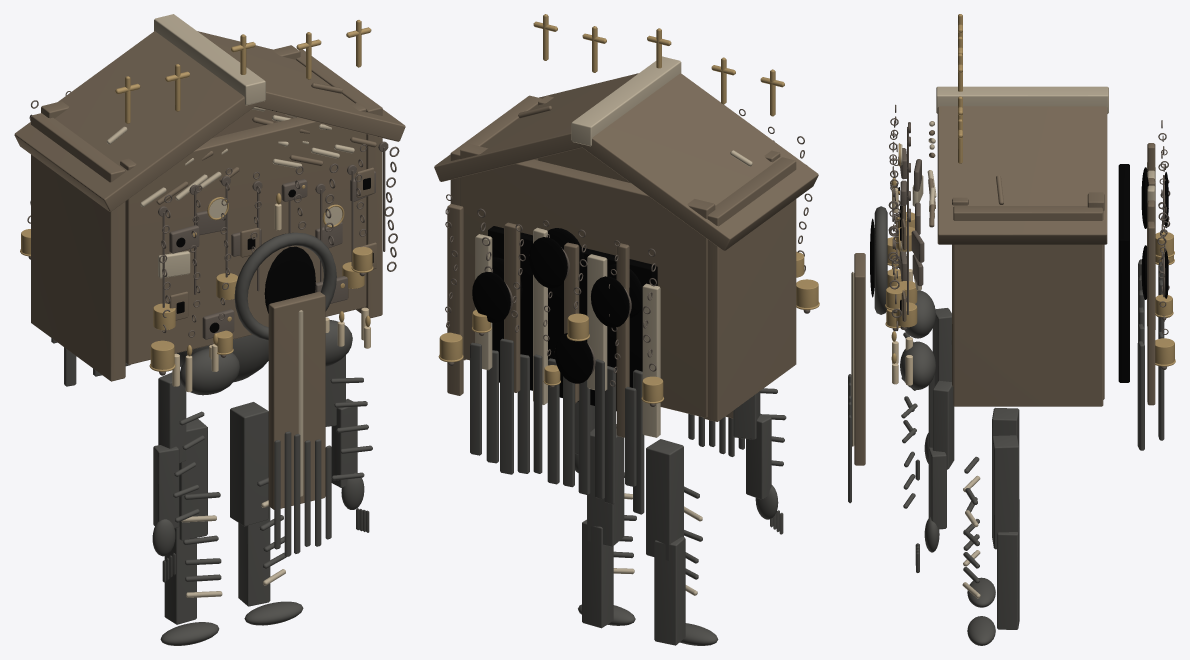
The model's file is penance_carrier_end_goal_v5_detail_density.glb.
The picture shows the model from 3 angles, left to right: view 1: azimuth 30°, elevation 25°; view 2: azimuth 150°, elevation 25°; view 3: azimuth 270°, elevation 25°; orthographic projection. The views are drawn at different scales.
Visible parts, largest first — view 1: PC_V4_shrine_front_rotten_wall, PC_V4_roof_left_steep_slab, PC_V4_shrine_left_side_wall, PC_V4_long_door_mask_front, PC_V4_roof_right_steep_slab, PC_V4_right_wrapped_thigh, PC_V4_shrine_right_side_wall, PC_V4_roof_ridge_heavy_rot, PC_V4_head_hood_oval_ring, PC_V4_right_wrapped_shin, PC_V4_left_wrapped_thigh, PC_V4_head_black_void (+24 smaller); view 2: PC_V4_shrine_rear_rotten_wall, PC_V4_roof_left_steep_slab, PC_V4_shrine_left_side_wall, PC_V4_roof_right_steep_slab, PC_V4_back_black_rotten_hollow, PC_V4_left_wrapped_thigh, PC_V4_left_wrapped_shin, PC_V4_roof_ridge_heavy_rot, PC_V4_right_wrapped_shin, PC_V5_back_rotten_vertical_plank_07, PC_V4_right_wrapped_thigh, PC_V5_back_rotten_vertical_plank_00 (+30 smaller); view 3: PC_V4_shrine_right_side_wall, PC_V4_roof_right_steep_slab, PC_V4_roof_ridge_heavy_rot, PC_V4_right_wrapped_thigh, PC_V4_back_black_rotten_hollow, PC_V4_long_door_mask_front, PC_V4_right_wrapped_shin, PC_V4_right_long_upper_arm_wrapped, PC_V5_back_rotten_vertical_plank_07, PC_V4_head_hood_oval_ring, PC_V4_right_long_forearm_wrapped, PC_V4_left_long_upper_arm_wrapped (+10 smaller).
Part boxes in pixels (x1,y1,x2,y2): PC_V4_shrine_front_rotten_wall: (120,103,366,364); PC_V4_roof_left_steep_slab: (14,31,259,211); PC_V4_shrine_left_side_wall: (31,113,125,381); PC_V4_long_door_mask_front: (268,291,325,509); PC_V4_roof_right_steep_slab: (197,31,405,141); PC_V4_right_wrapped_thigh: (230,402,268,526); PC_V4_shrine_right_side_wall: (296,49,382,318); PC_V4_roof_ridge_heavy_rot: (154,14,265,105); PC_V4_head_hood_oval_ring: (234,232,336,340); PC_V4_right_wrapped_shin: (238,506,270,606); PC_V4_left_wrapped_thigh: (179,419,207,540); PC_V4_head_black_void: (264,246,315,313); PC_V4_shrine_rear_rotten_wall: (460,144,715,417); PC_V4_roof_left_steep_slab: (577,73,818,250); PC_V4_shrine_left_side_wall: (703,157,796,421); PC_V4_roof_right_steep_slab: (434,73,638,181); PC_V4_back_black_rotten_hollow: (488,226,657,411); PC_V4_left_wrapped_thigh: (646,439,683,560); PC_V4_left_wrapped_shin: (654,536,685,645); PC_V4_roof_ridge_heavy_rot: (571,56,681,146); PC_V4_right_wrapped_shin: (582,519,613,628); PC_V5_back_rotten_vertical_plank_07: (447,204,463,395); PC_V4_right_wrapped_thigh: (587,428,624,546); PC_V5_back_rotten_vertical_plank_00: (642,283,660,437); PC_V4_shrine_right_side_wall: (953,206,1103,406); PC_V4_roof_right_steep_slab: (937,106,1107,244); PC_V4_roof_ridge_heavy_rot: (936,86,1108,113); PC_V4_right_wrapped_thigh: (992,435,1019,549); PC_V4_back_black_rotten_hollow: (1118,164,1129,382); PC_V4_long_door_mask_front: (854,253,865,465); PC_V4_right_wrapped_shin: (997,526,1019,629); PC_V4_right_long_upper_arm_wrapped: (932,380,954,469); PC_V5_back_rotten_vertical_plank_07: (1147,221,1155,405); PC_V4_head_hood_oval_ring: (874,206,887,314); PC_V4_right_long_forearm_wrapped: (928,447,946,529); PC_V4_left_long_upper_arm_wrapped: (932,308,951,385).
Size of the model in its own units: 2.3 by 4.41 by 2.32.
